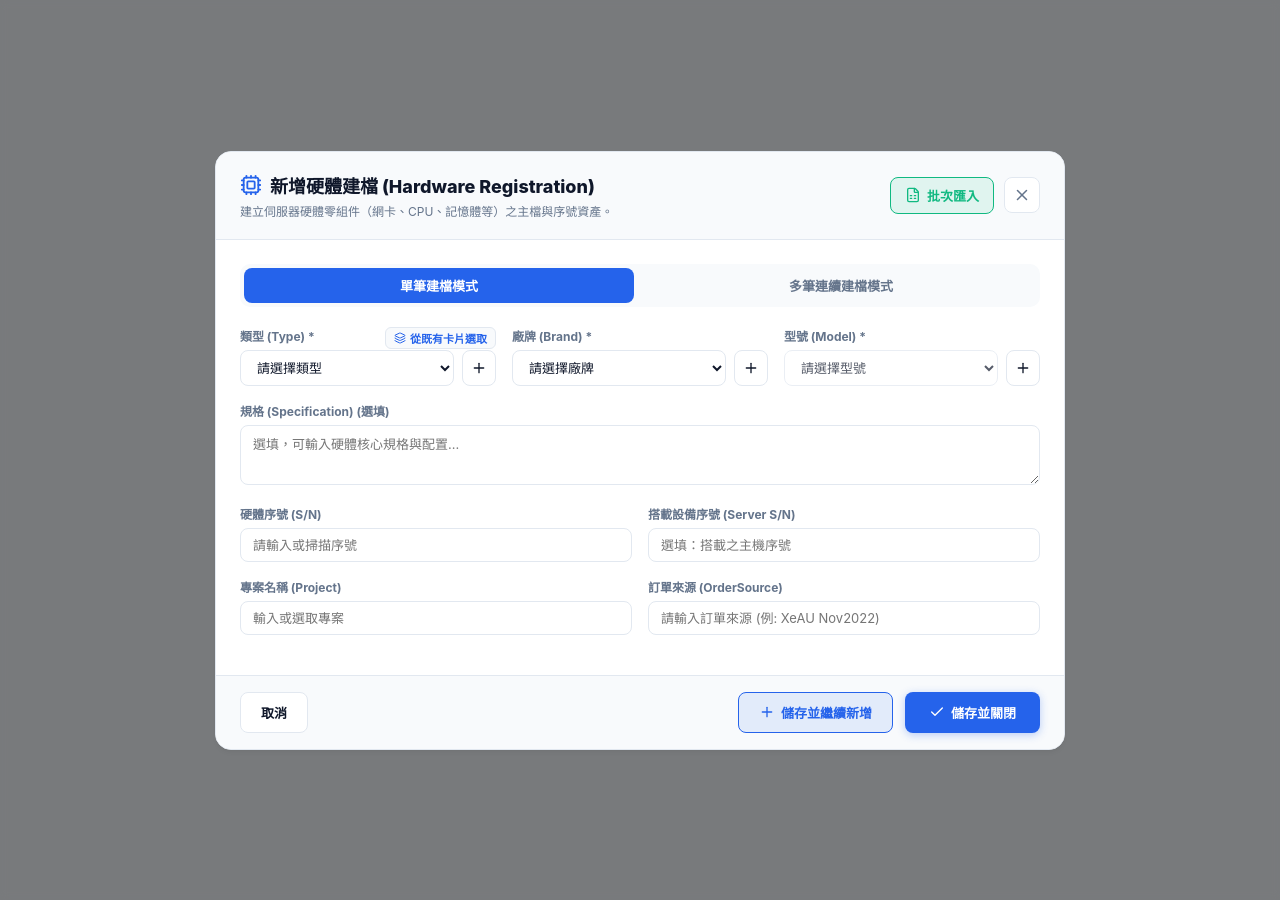
Test case: 全模組彈窗建檔 (Registration Modals) 整合測試 › HwRegistrationModal 應能順利渲染並支援單筆/多筆連續建檔模式切換
The image size is (1280, 900).
Check: the heading "新增硬體建檔 (Hardware Registration)" is shown, box [240,172,613,198]
Check: the button "單筆建檔模式" is shown, box [244,268,634,302]
Click the button "多筆連續建檔模式": x=841, y=285 [646,268,1036,302]
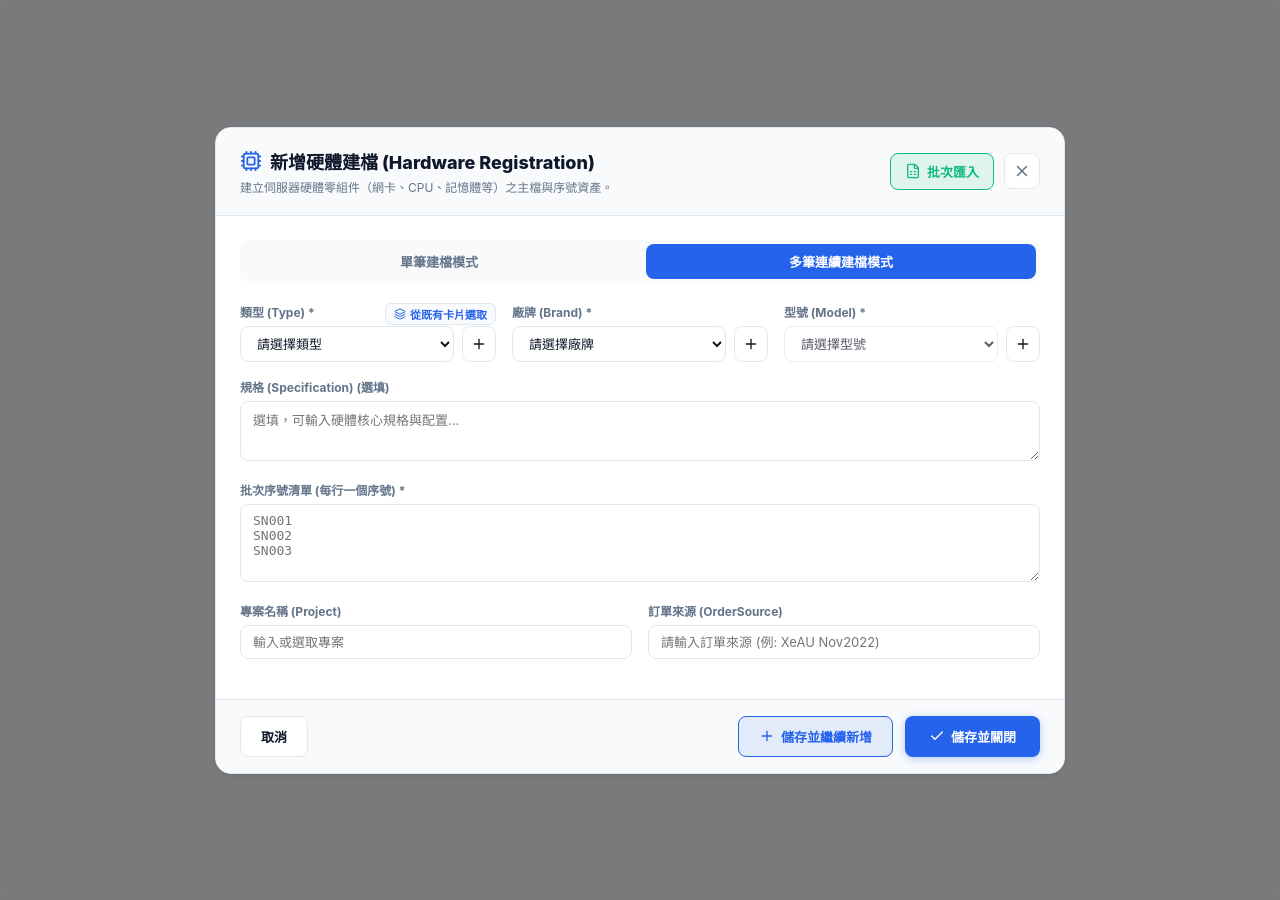
Check: the text "批次序號清單 (每行一個序號) *" is shown, box [240,482,406,498]
